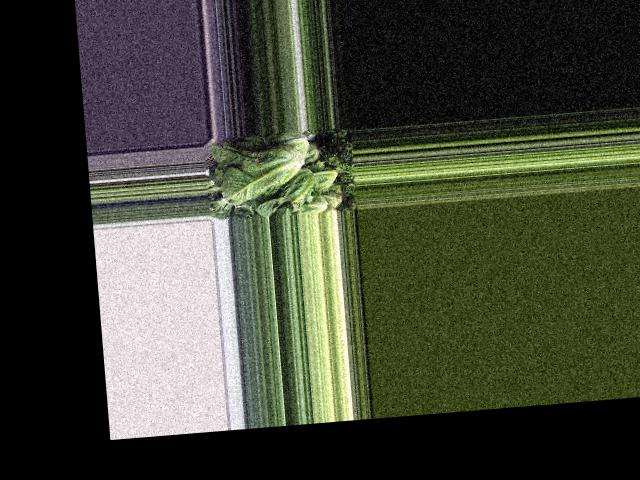lettuce: (250, 169, 319, 215)
